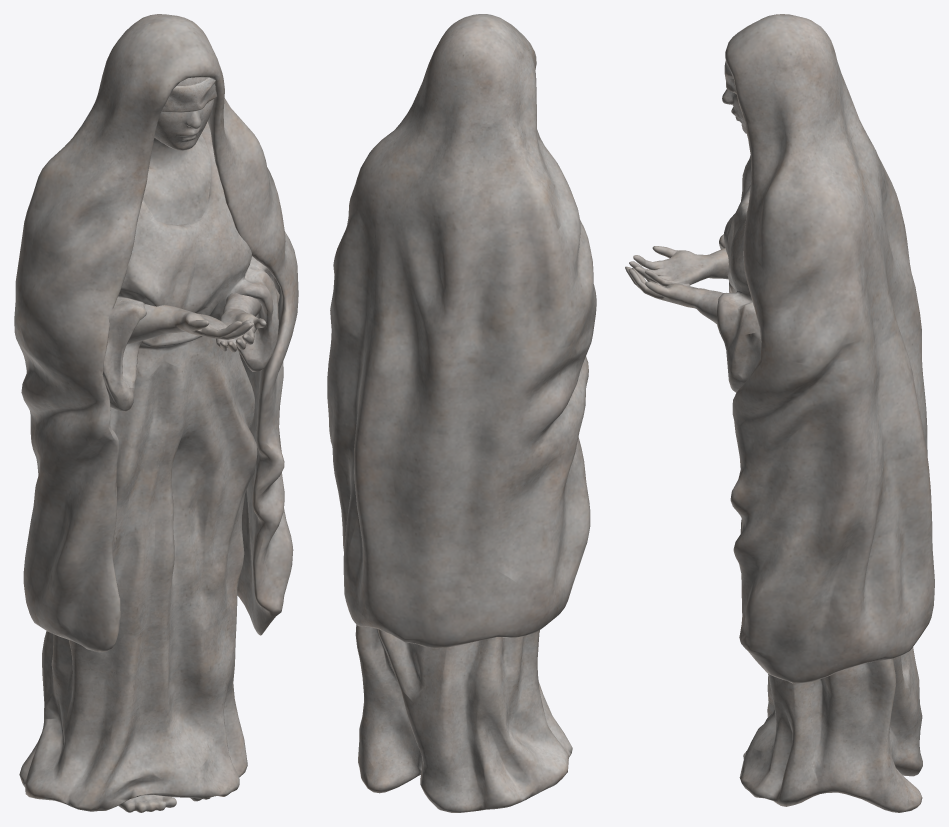
Rendered from Statue_D.fbx.
The picture shows the model from 3 angles, left to right: view 1: azimuth 30°, elevation 25°; view 2: azimuth 150°, elevation 25°; view 3: azimuth 270°, elevation 25°; orthographic projection. The views are drawn at different scales.
Parts seen in each view (by area): view 1: Statue_D; view 2: Statue_D; view 3: Statue_D.
Part boxes in pixels (bbox=[...]): Statue_D: bbox=[14, 14, 298, 812]; Statue_D: bbox=[327, 14, 596, 812]; Statue_D: bbox=[625, 14, 934, 812].
Size of the model in its own units: 1.15 by 3.32 by 1.21.
